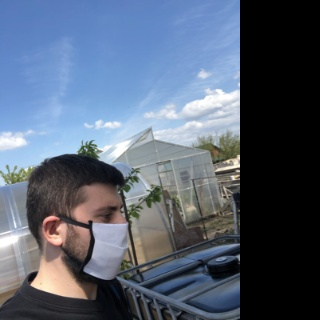with_mask: (80, 200, 129, 284)
